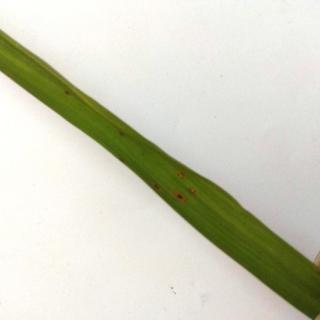Blast: (160, 164, 203, 207)
